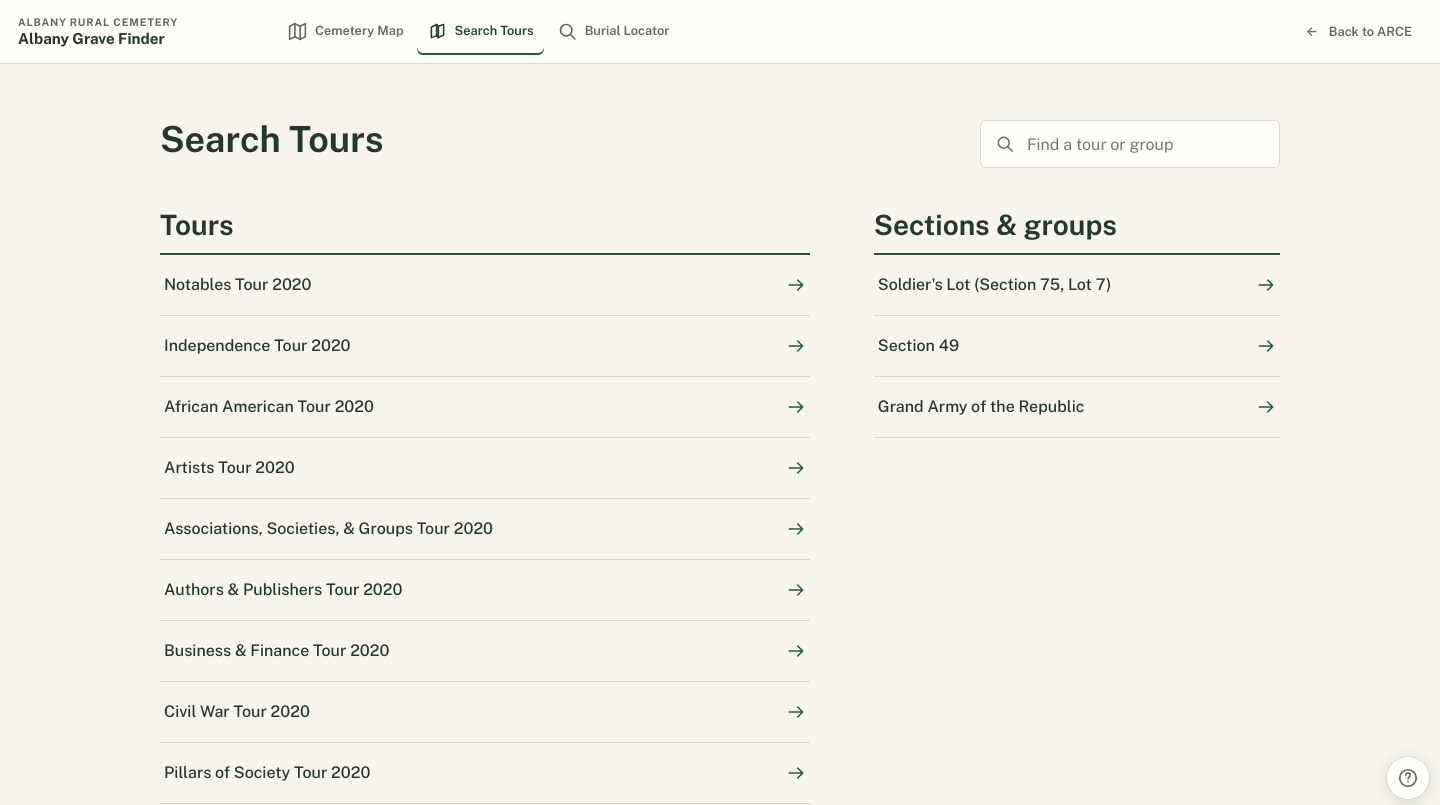
App product shell › uses the route as the single tab state
Click the button "Burial Locator" at (613, 32), box [547,8,679,54]
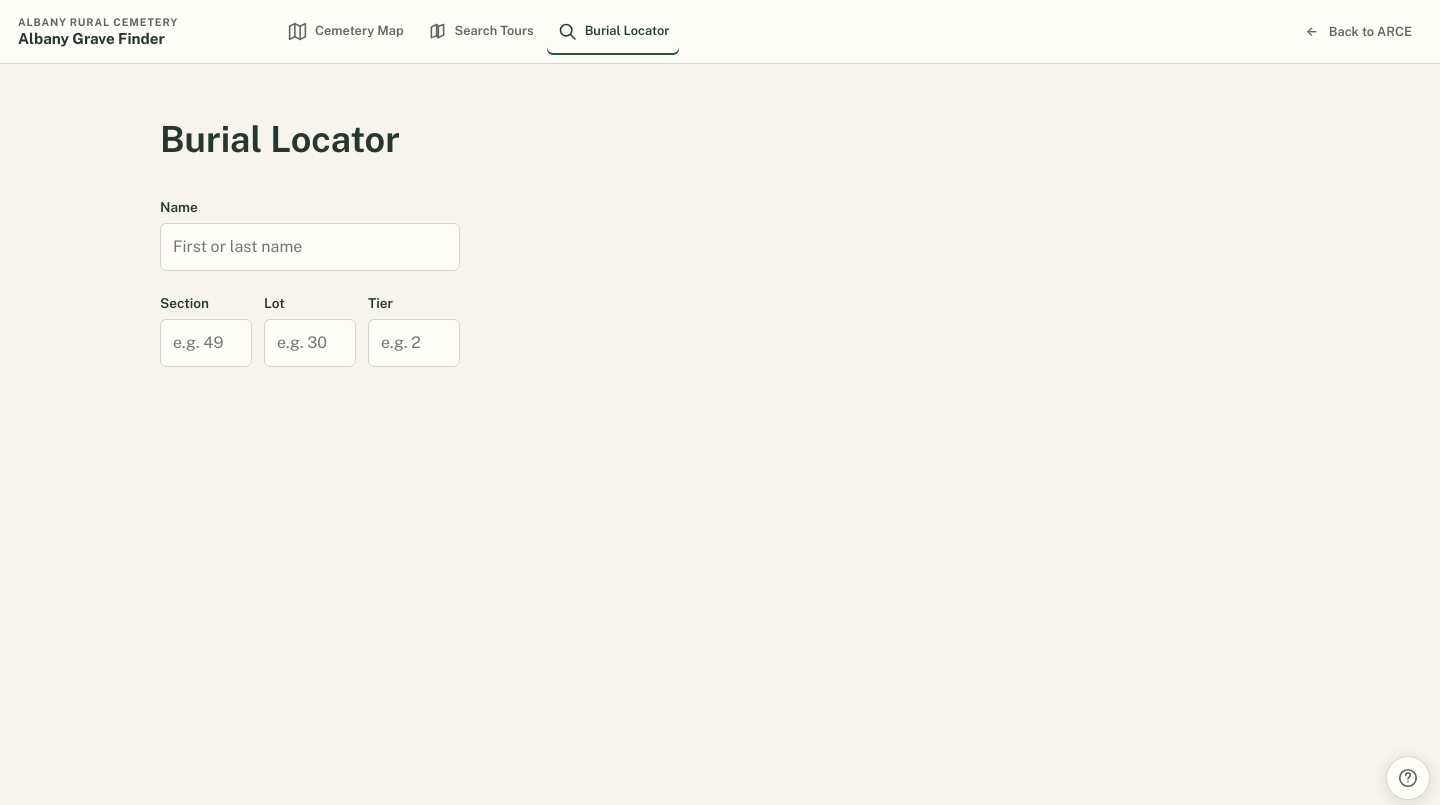
expect the heading "Burial Locator" is shown: met, box [160,118,400,160]
